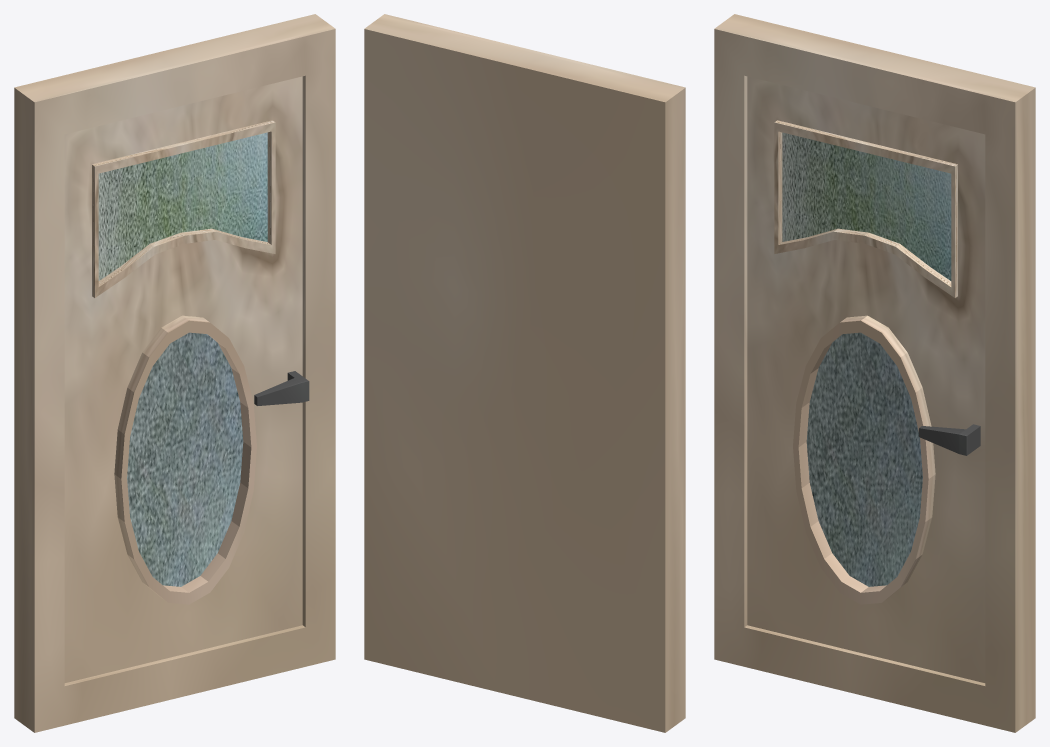
File: Puerta_34.fbx
The picture shows the model from 3 angles, left to right: view 1: azimuth 30°, elevation 25°; view 2: azimuth 150°, elevation 25°; view 3: azimuth 330°, elevation 25°; orthographic projection.
Parts seen in each view (by area): view 1: Cube.030; view 2: Cube.030; view 3: Cube.030.
Boxes of the visible parts, x1,y1,x2,y2 form: Cube.030: (14, 14, 335, 732); Cube.030: (364, 14, 685, 732); Cube.030: (714, 14, 1035, 732).
Size of the model in its own units: 200 by 400 by 36.09.
